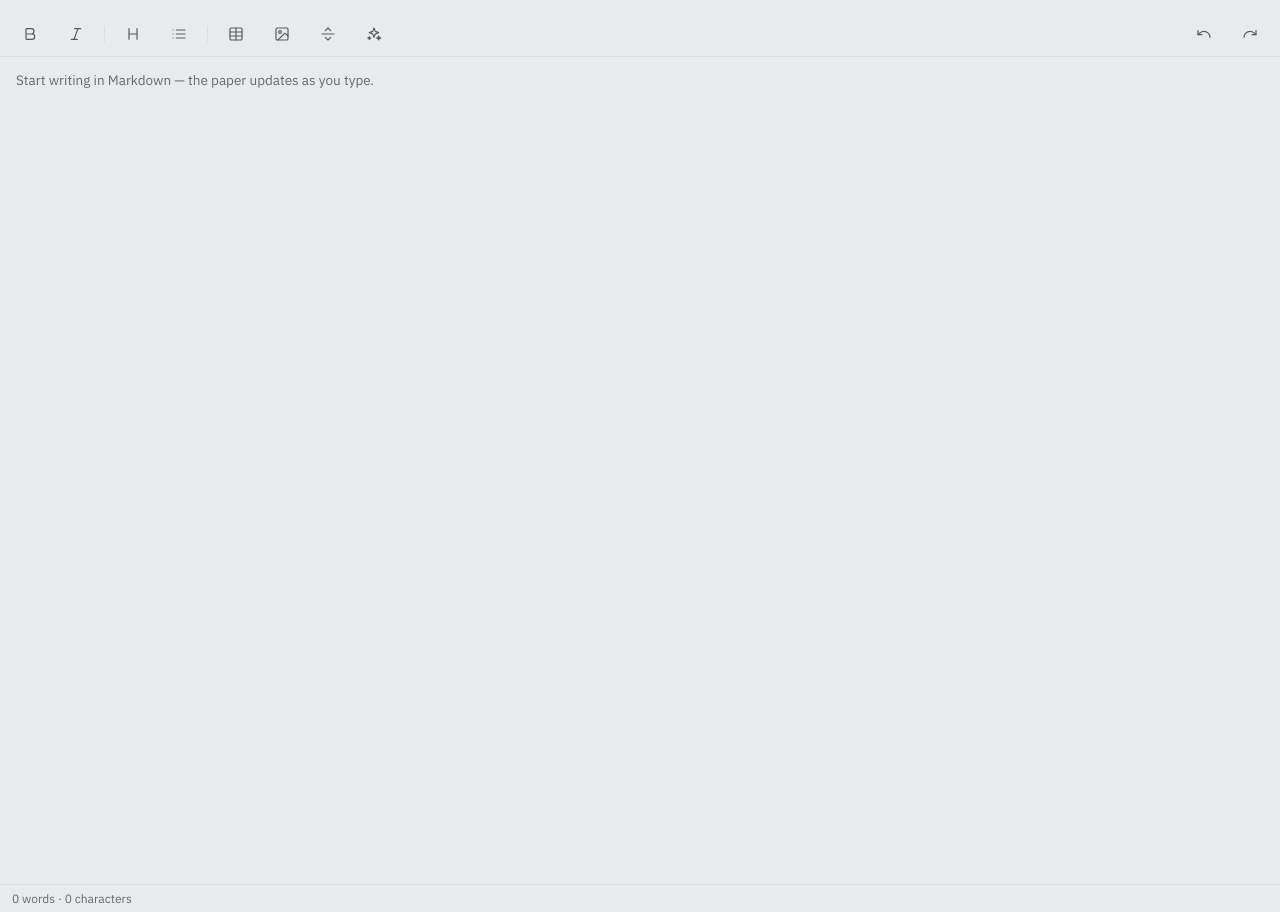
Test: the hint › appears for /a and /s only, and never for a bare slash
This screenshot has width=1280, height=912.
Click the field labelled "Start writing in Markdown — the paper updates as you type.": point(195, 80) [16,71,374,89]
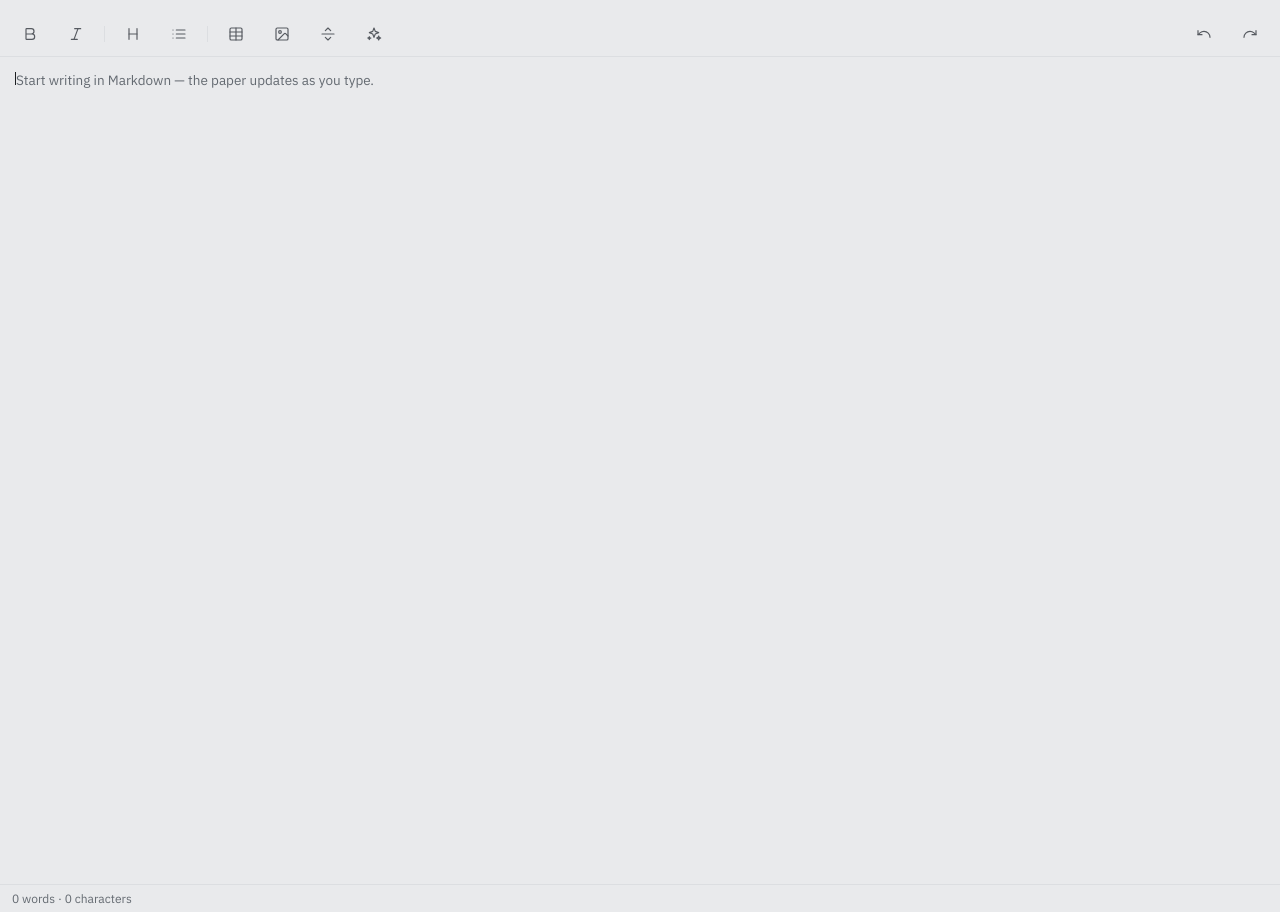
Type keys "/"
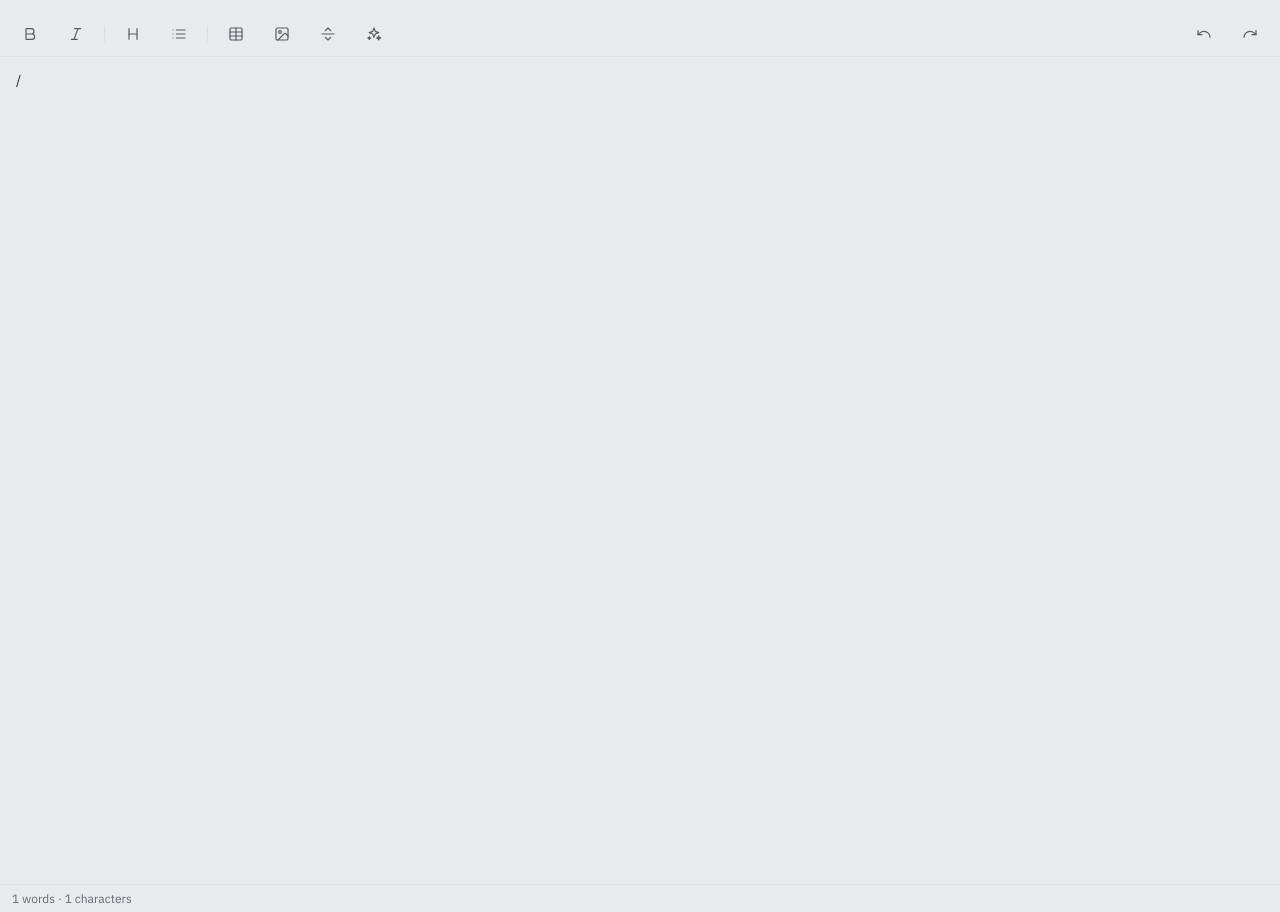
Type keys "a"
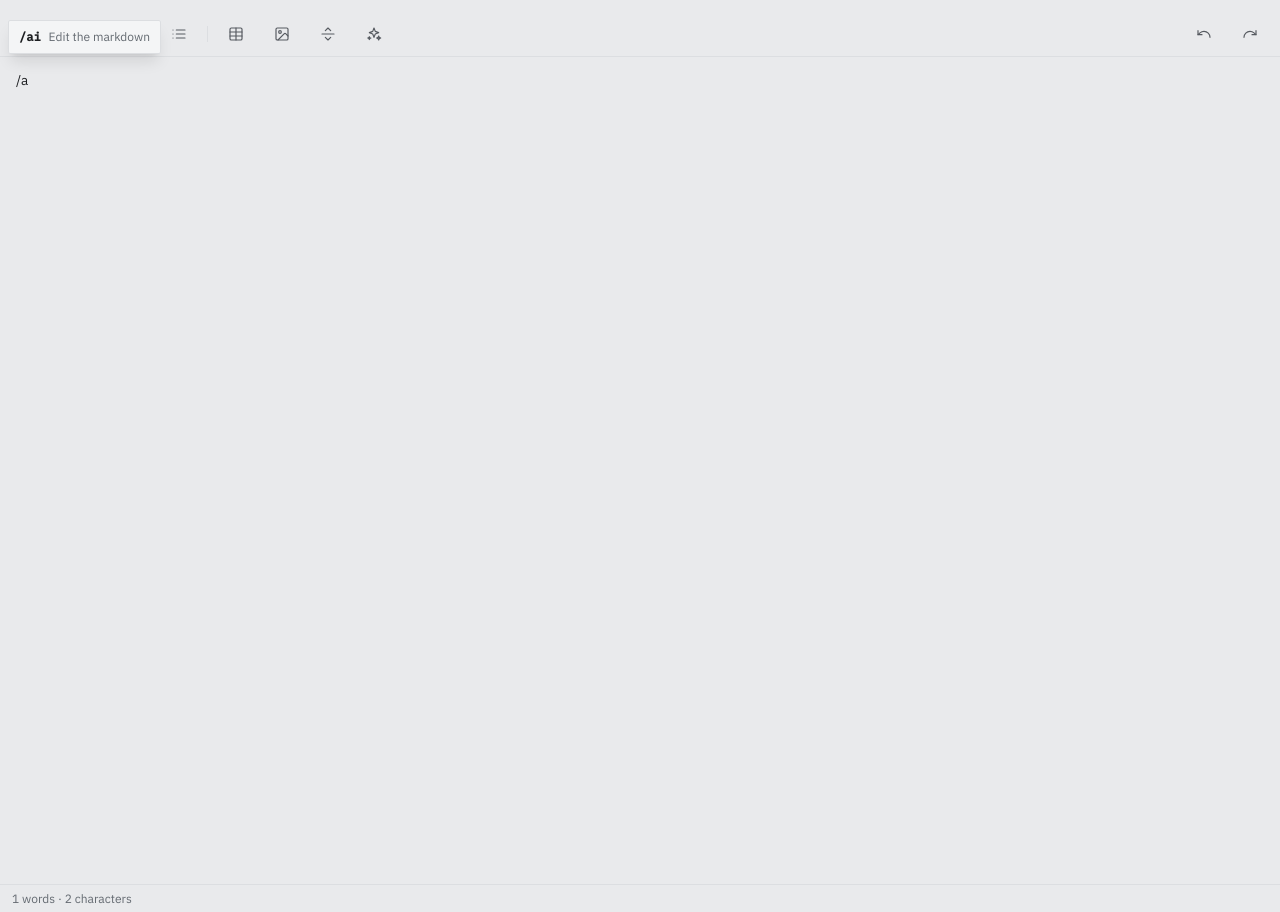
Now the element with test id "ai-hint" shows "/ai", box [9,25,160,49]
Now the element with test id "ai-hint" shows "Edit the markdown", box [9,25,160,49]
Type keys "{Backspace}{Backspace}/s"
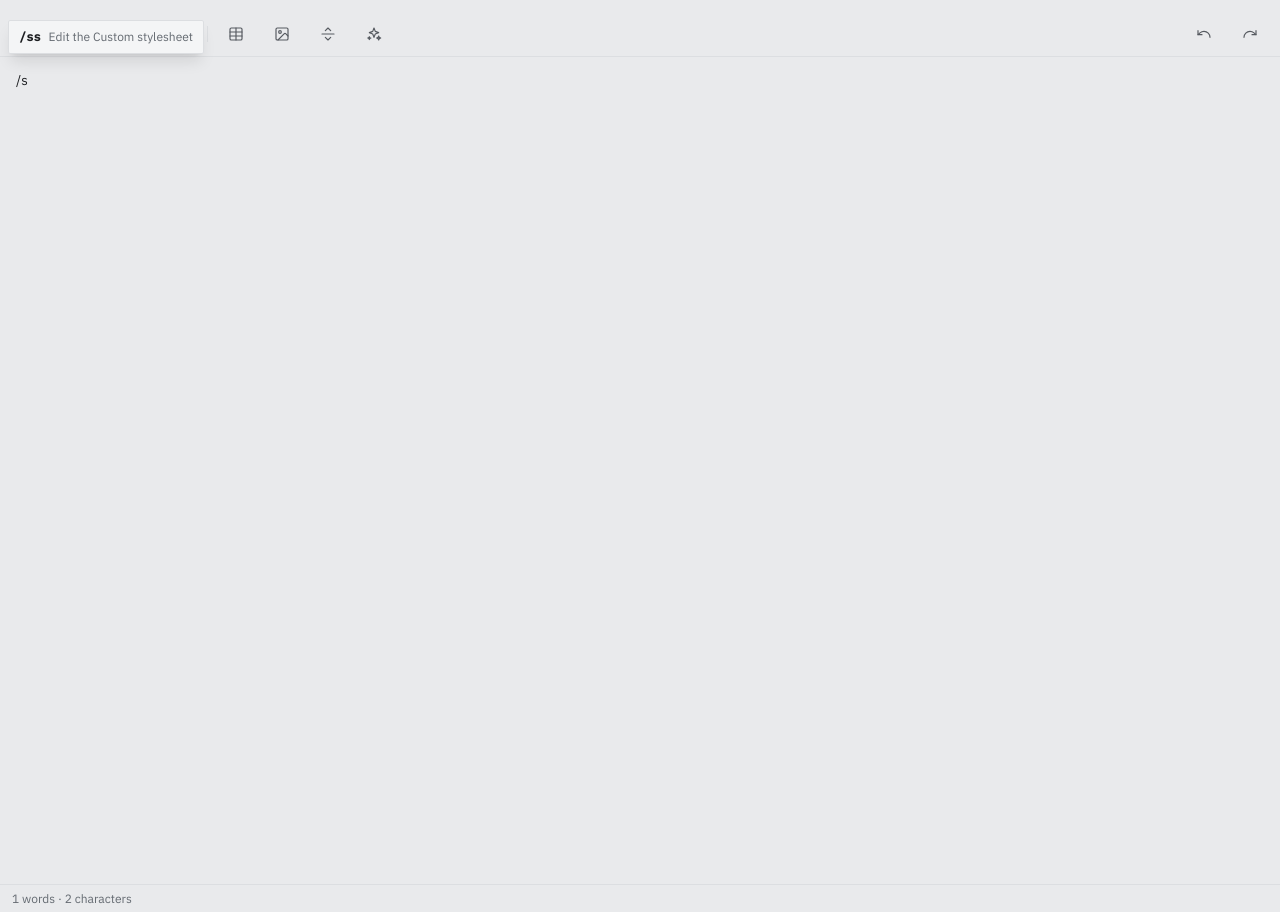
Now the element with test id "ai-hint" shows "/ss", box [9,25,203,49]
Now the element with test id "ai-hint" shows "Edit the Custom stylesheet", box [9,25,203,49]
